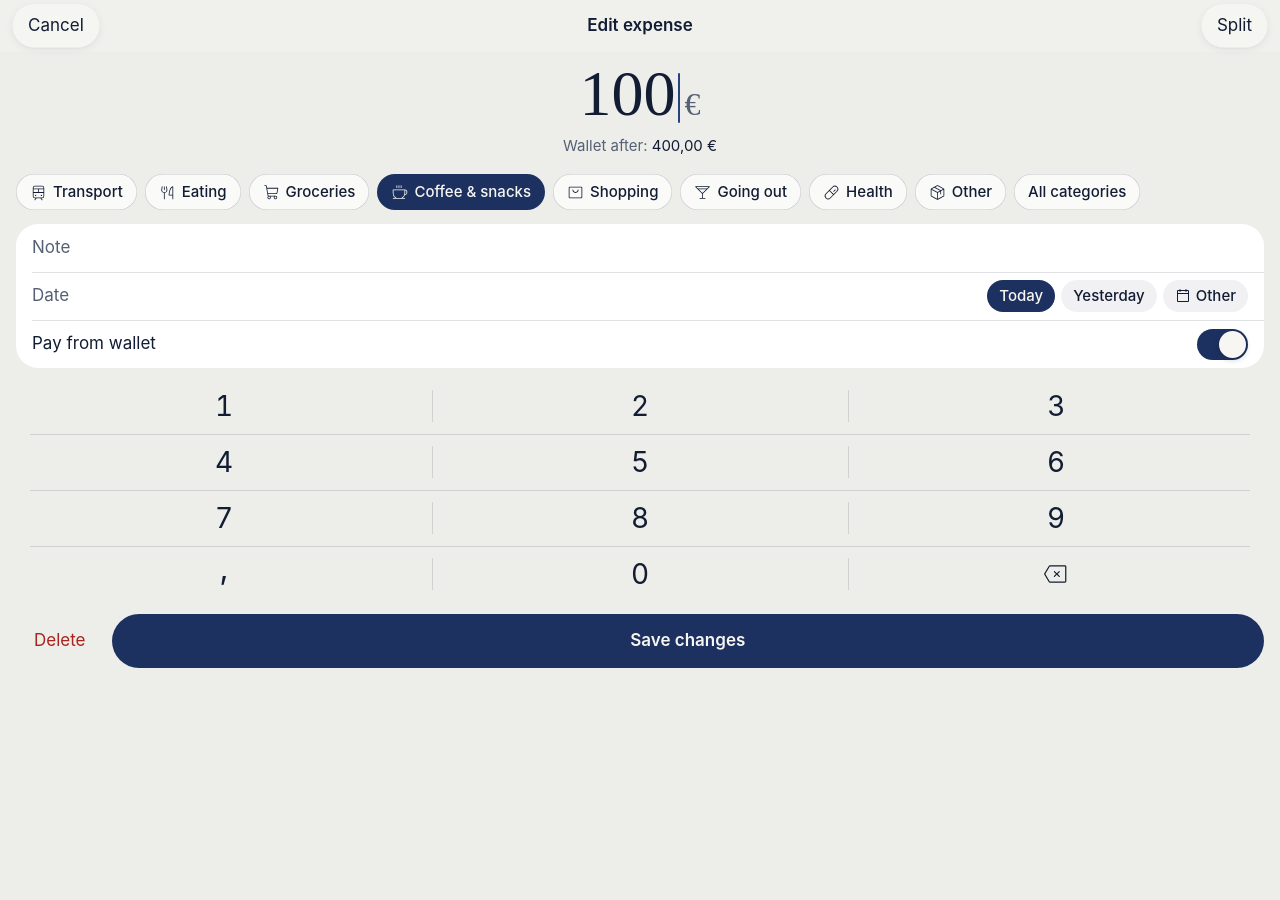
Test case: paying from the wallet (§3.13, DESIGN.md §9.26) › counts an edited payment back in first
Expected: the switch with test id "pay-from-wallet" is checked, x1=16 y1=320 x2=1264 y2=368
Click the button "5" at coordinates (640, 462), box x1=432 y1=434 x2=848 y2=490
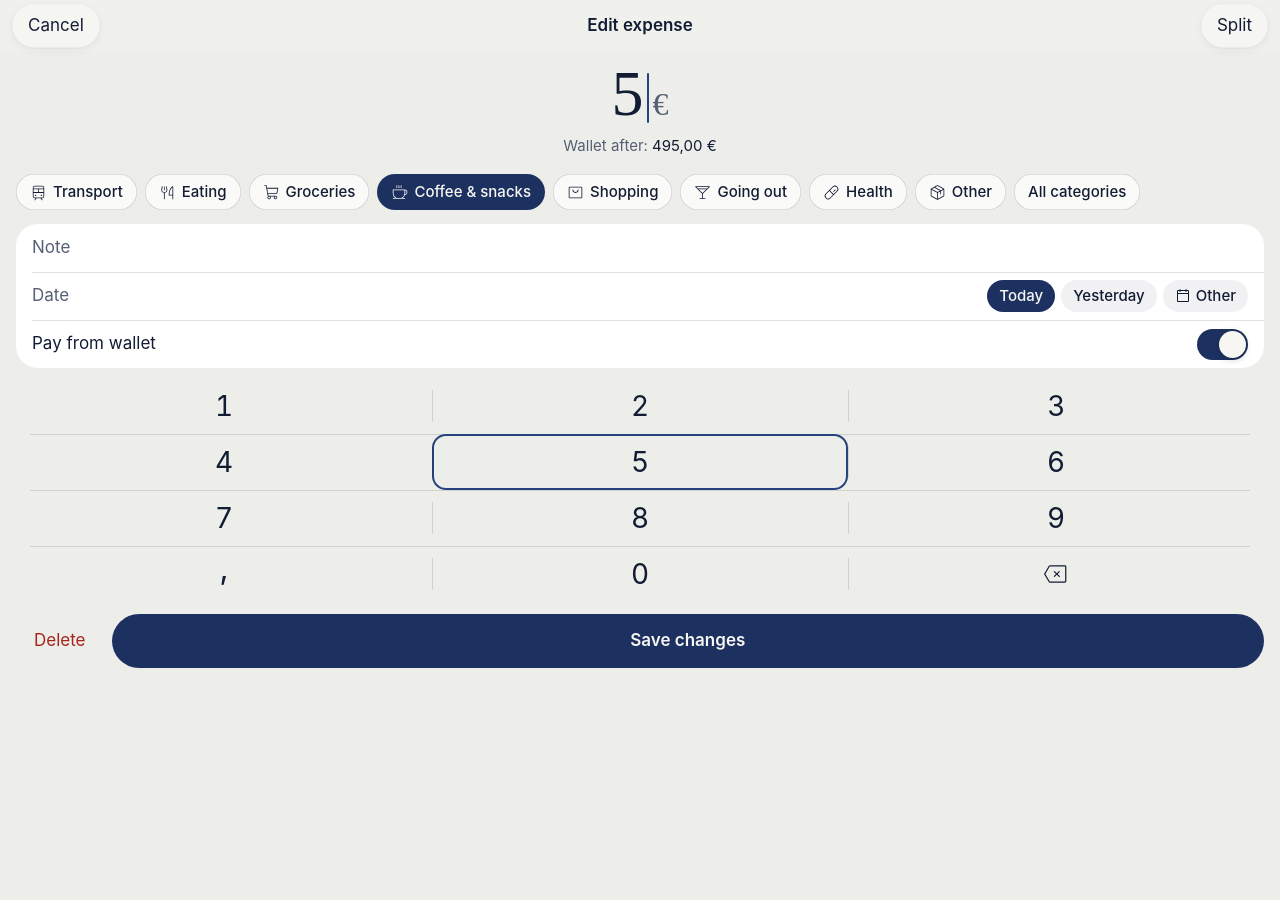
Click the button with test id "keypad-0" at coordinates (640, 574), box x1=432 y1=546 x2=848 y2=602
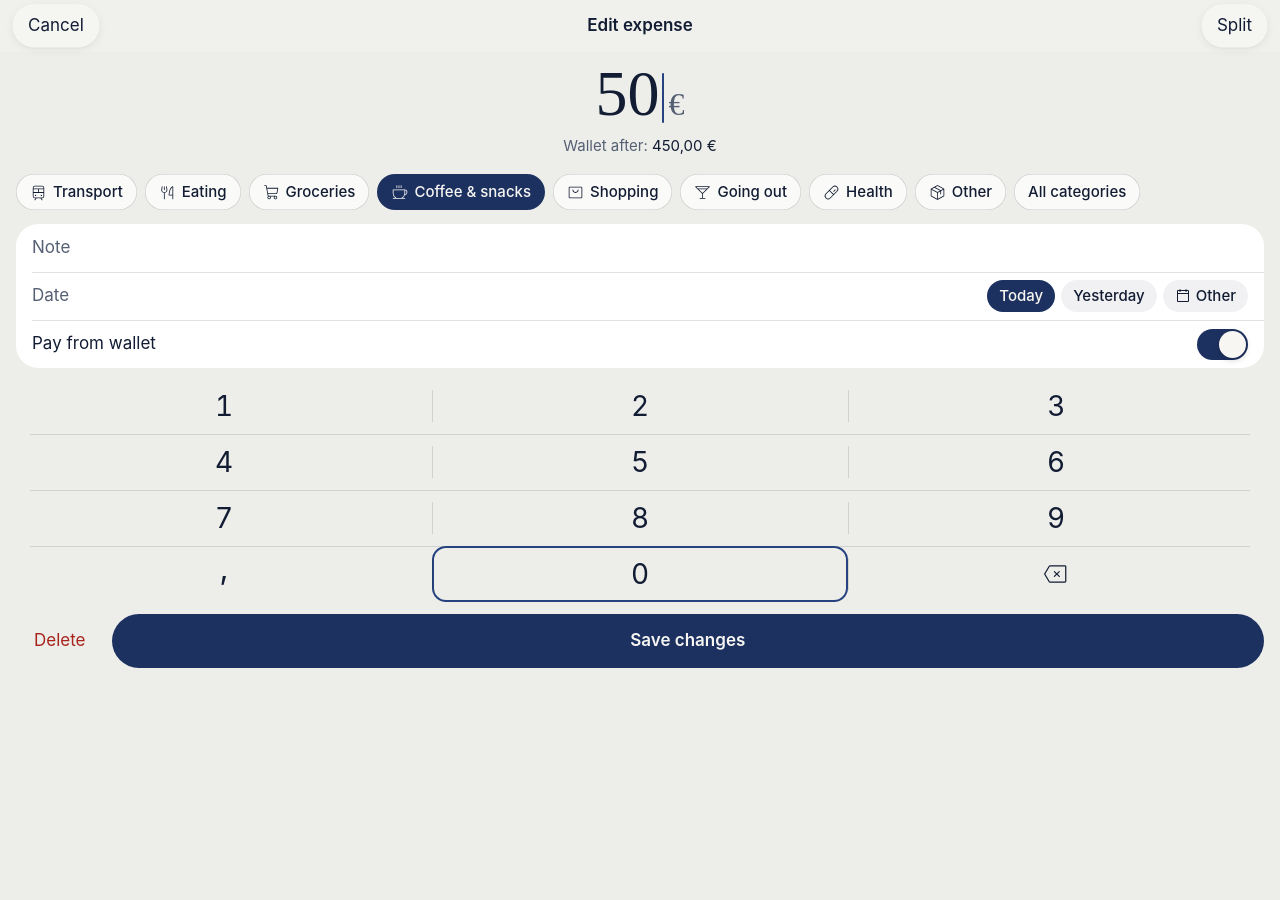
Expected: the element with test id "wallet-consequence" reads "Wallet after: 450,00 €", x1=563 y1=136 x2=717 y2=155
